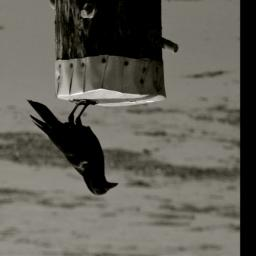Crow: (25, 95, 120, 199)
